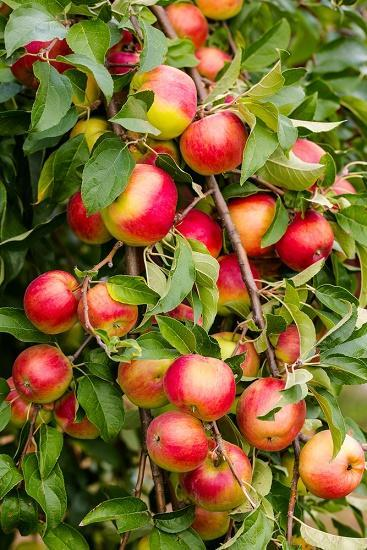apple: (104, 164, 176, 245), (235, 375, 308, 451), (297, 427, 364, 499), (164, 355, 236, 420), (179, 111, 248, 176), (138, 63, 196, 140), (192, 441, 254, 510), (145, 411, 209, 475), (22, 269, 81, 333), (274, 210, 332, 275), (79, 281, 141, 341), (12, 343, 71, 404), (225, 192, 278, 257), (117, 354, 172, 409), (65, 190, 114, 244), (171, 207, 222, 258), (214, 253, 253, 319), (164, 3, 207, 50), (273, 325, 319, 367), (188, 503, 231, 541), (193, 46, 231, 81), (194, 1, 242, 19)
